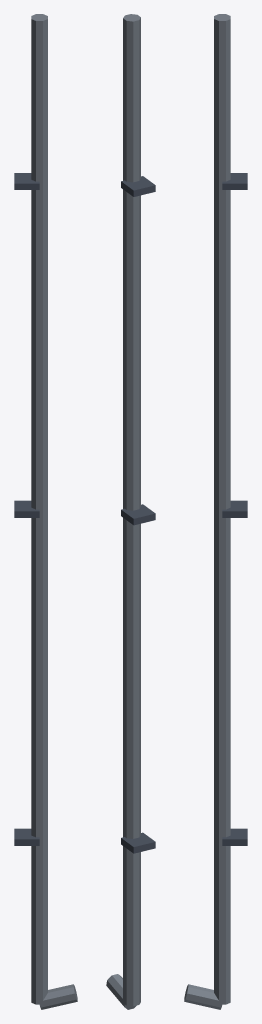
File: drain_pipe.glb
The picture shows the model from 3 angles, left to right: view 1: azimuth 90°, elevation 25°; view 2: azimuth 210°, elevation 25°; view 3: azimuth 270°, elevation 25°; orthographic projection.
Parts seen in each view (by area): view 1: drain_pipe; view 2: drain_pipe; view 3: drain_pipe.
Boxes of the visible parts, <box> form: drain_pipe: <box>14,14,77,1009</box>; drain_pipe: <box>106,14,155,1009</box>; drain_pipe: <box>184,14,247,1009</box>.
Bounding box in the file's own units: 0.14 × 6.04 × 0.3512.
